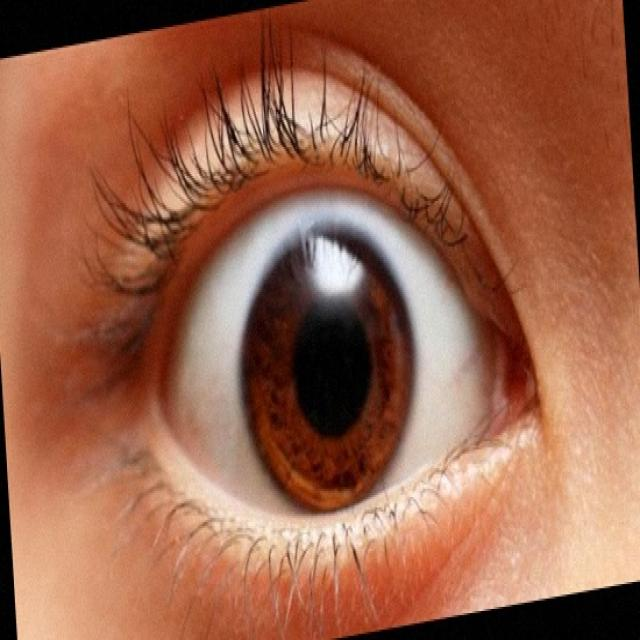Healthy-Eye: (119, 143, 517, 559)
